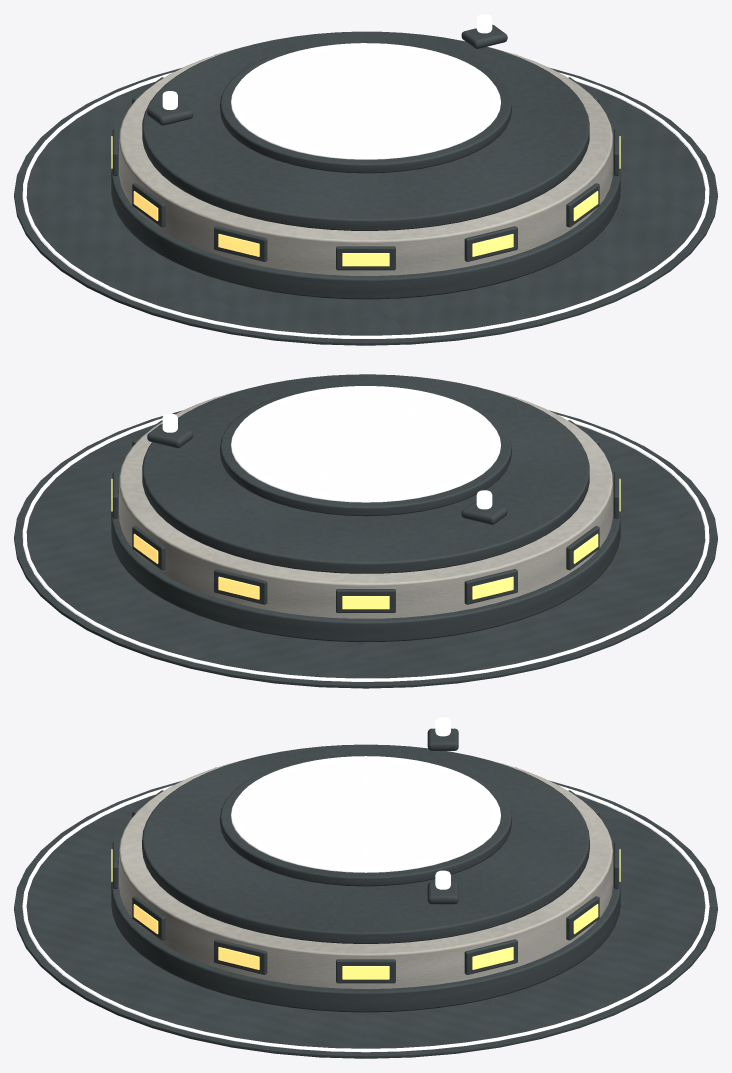
File: crown-command.ed1cd04d215e.glb
3 renders of one model, top to bottom at view 1: azimuth 30°, elevation 25°; view 2: azimuth 150°, elevation 25°; view 3: azimuth 270°, elevation 25°, orthographic.
Visible parts, largest first — view 1: MF_Roof_Crown__structure_graphite_joints, MF_Roof_Crown__identity_roof_inset, MF_Roof_Crown__structure_ivory_ceramic, MF_Roof_Crown__identity_trim, MF_Roof_Crown__identity_roof_ring, MF_Roof_Crown__practical_warm_window_glass, MF_Roof_Crown__ambient_sensor_navigation; view 2: MF_Roof_Crown__structure_graphite_joints, MF_Roof_Crown__identity_roof_inset, MF_Roof_Crown__structure_ivory_ceramic, MF_Roof_Crown__identity_trim, MF_Roof_Crown__identity_roof_ring, MF_Roof_Crown__practical_warm_window_glass, MF_Roof_Crown__ambient_sensor_navigation; view 3: MF_Roof_Crown__structure_graphite_joints, MF_Roof_Crown__identity_roof_inset, MF_Roof_Crown__structure_ivory_ceramic, MF_Roof_Crown__identity_trim, MF_Roof_Crown__identity_roof_ring, MF_Roof_Crown__practical_warm_window_glass, MF_Roof_Crown__ambient_sensor_navigation.
Boxes of the visible parts, <box> form: MF_Roof_Crown__structure_graphite_joints: <box>14,24,717,345</box>; MF_Roof_Crown__identity_roof_inset: <box>231,47,500,159</box>; MF_Roof_Crown__structure_ivory_ceramic: <box>119,46,612,275</box>; MF_Roof_Crown__identity_trim: <box>22,72,709,338</box>; MF_Roof_Crown__identity_roof_ring: <box>232,43,499,157</box>; MF_Roof_Crown__practical_warm_window_glass: <box>111,136,620,266</box>; MF_Roof_Crown__ambient_sensor_navigation: <box>162,14,492,109</box>; MF_Roof_Crown__structure_graphite_joints: <box>14,374,717,688</box>; MF_Roof_Crown__identity_roof_inset: <box>231,390,500,502</box>; MF_Roof_Crown__structure_ivory_ceramic: <box>119,389,612,618</box>; MF_Roof_Crown__identity_trim: <box>22,415,709,681</box>; MF_Roof_Crown__identity_roof_ring: <box>232,386,499,500</box>; MF_Roof_Crown__practical_warm_window_glass: <box>111,479,620,609</box>; MF_Roof_Crown__ambient_sensor_navigation: <box>162,413,492,509</box>; MF_Roof_Crown__structure_graphite_joints: <box>14,728,717,1058</box>; MF_Roof_Crown__identity_roof_inset: <box>231,760,500,872</box>; MF_Roof_Crown__structure_ivory_ceramic: <box>119,760,612,988</box>; MF_Roof_Crown__identity_trim: <box>22,785,709,1052</box>; MF_Roof_Crown__identity_roof_ring: <box>232,756,499,870</box>; MF_Roof_Crown__practical_warm_window_glass: <box>111,849,620,979</box>; MF_Roof_Crown__ambient_sensor_navigation: <box>435,717,450,889</box>.
Size of the model in its own units: 16.8 by 3 by 16.8.
7 materials, 2 textured.
